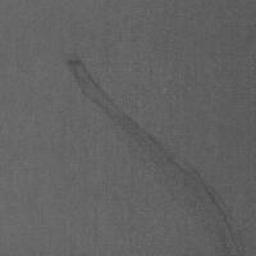Water spot: (64, 56, 256, 256)
